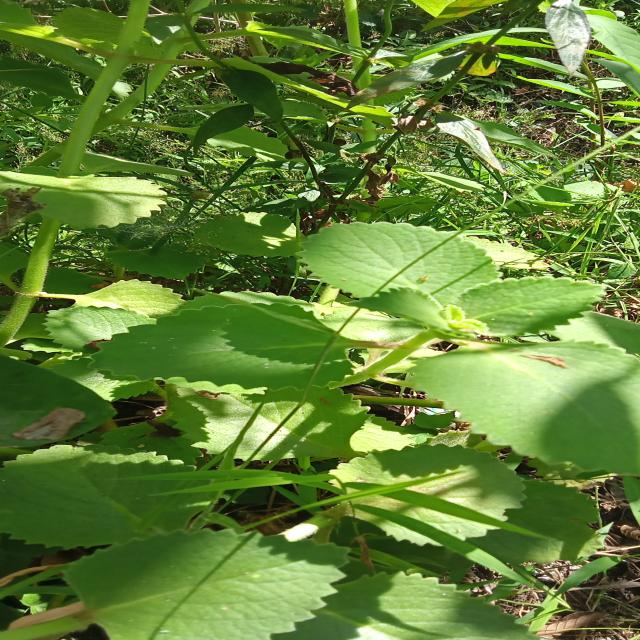Oregano: (285, 217, 616, 335), (87, 284, 380, 408), (63, 523, 363, 640), (411, 334, 640, 483)
